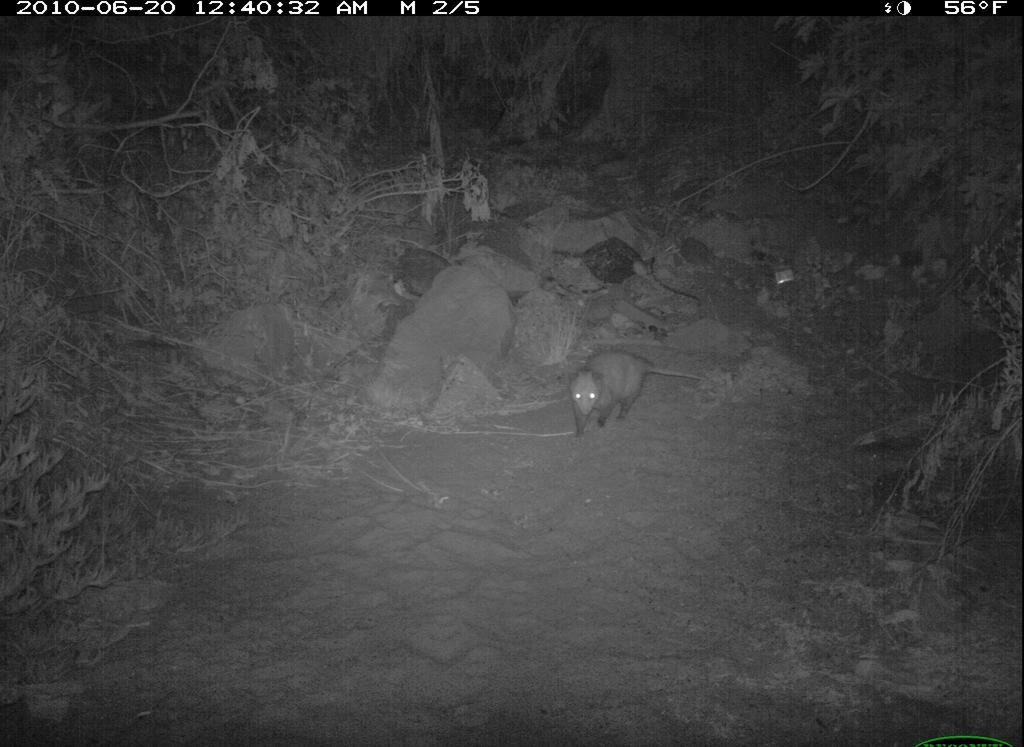opossum: (561, 338, 708, 447)
